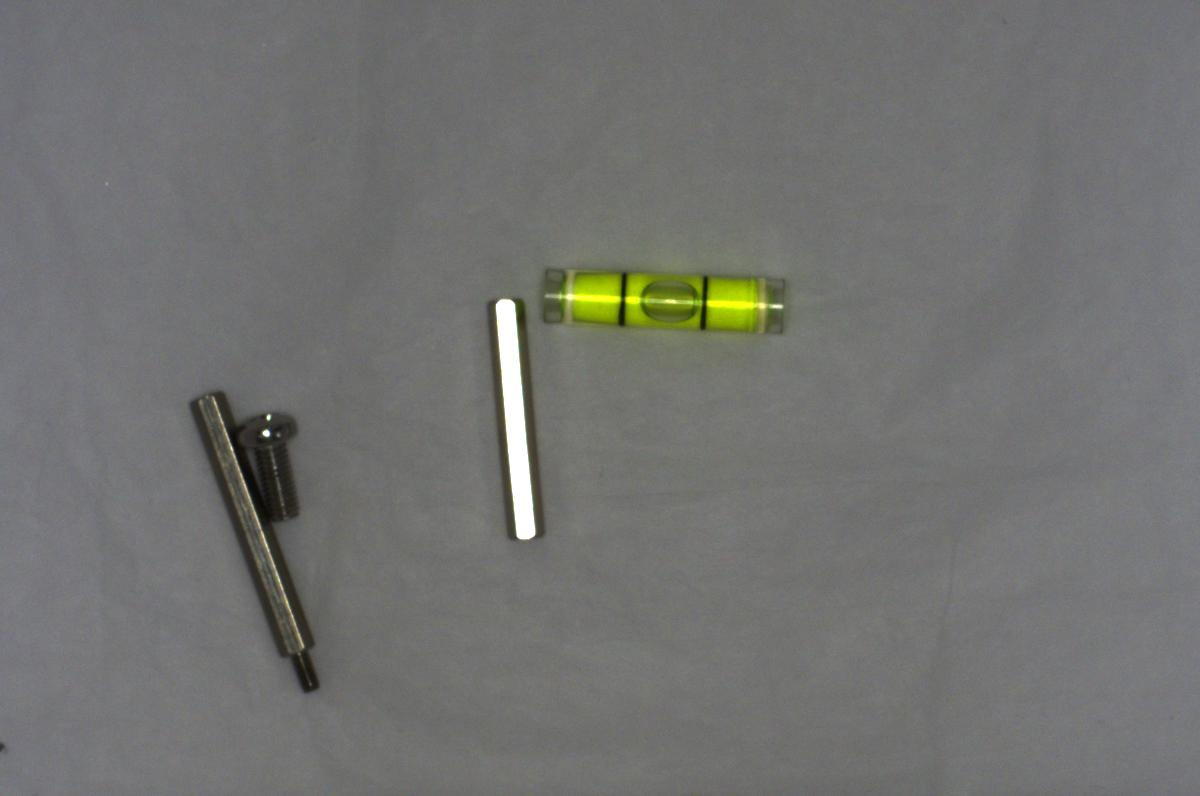Double hexagonal column: (481, 288, 554, 539)
Hexagonal steel column: (184, 387, 328, 699)
Horizontal bubble: (530, 259, 791, 345)
Round head screw: (233, 405, 326, 526)
